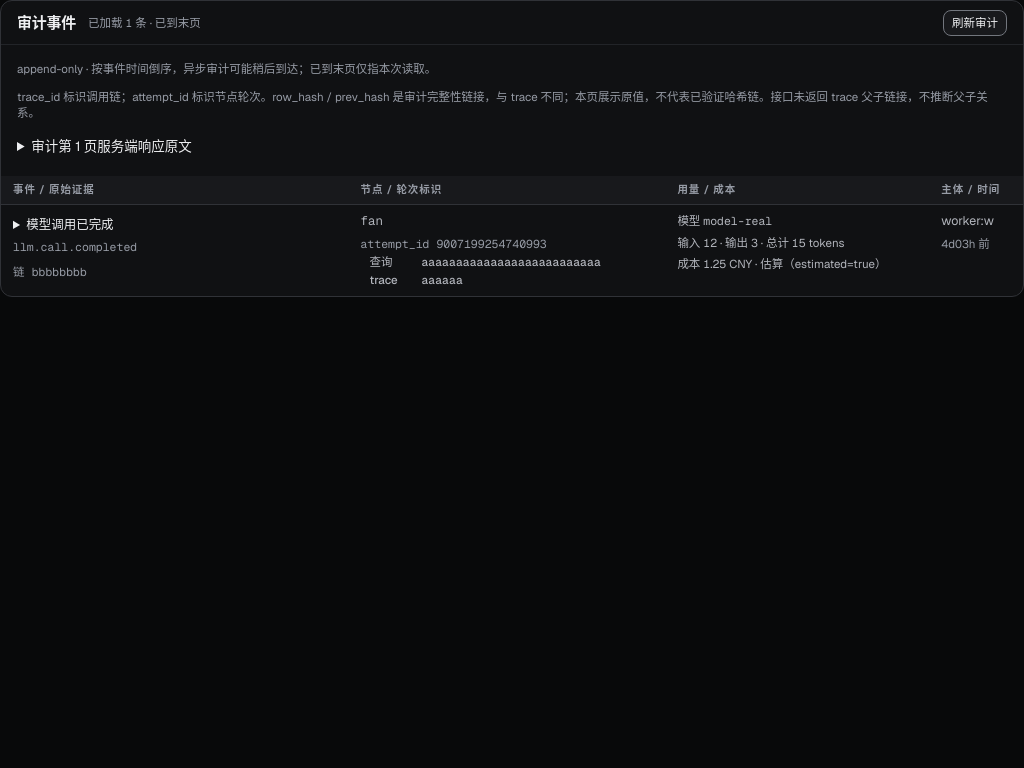
it: 完整审计与 trace 查询 › 审计页面保留真实text原文，大整数payload可核验，解析视图诚实标注
Click the heading "审计第 1 页服务端响应原文": (112, 146) [31,137,192,155]
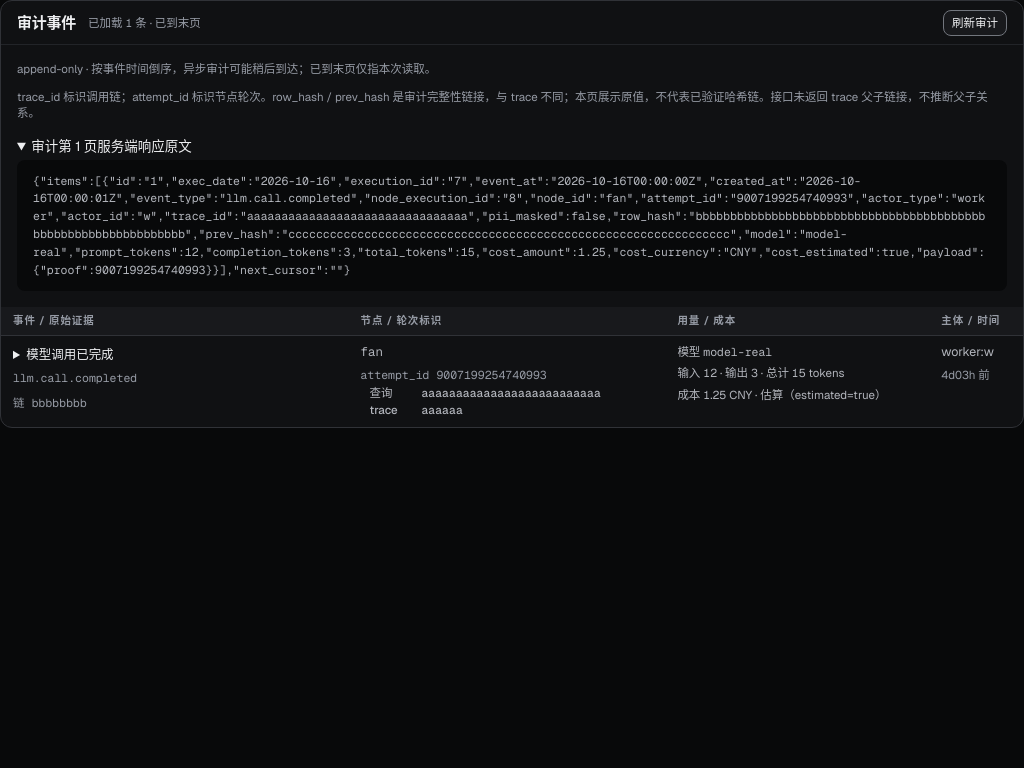
Click the text "模型调用已完成": (70, 355) [26,346,114,363]
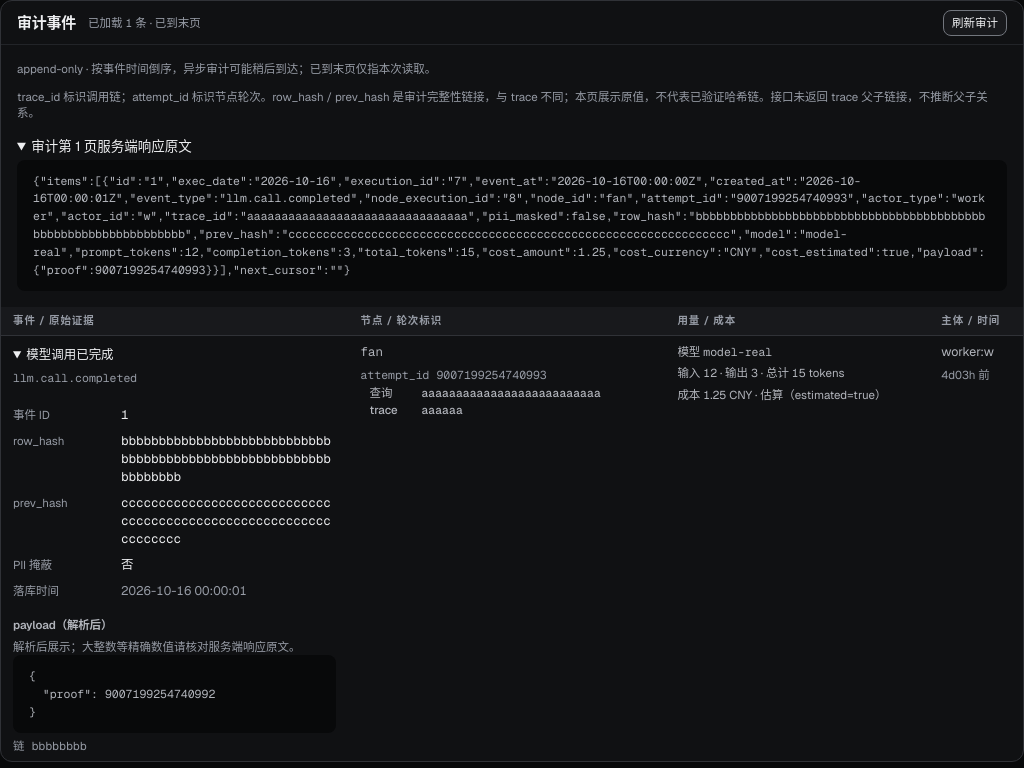
Expected: the text "解析后展示；大整数等精确数值请核对服务端响应原文。" is shown, [13,639,336,655]
